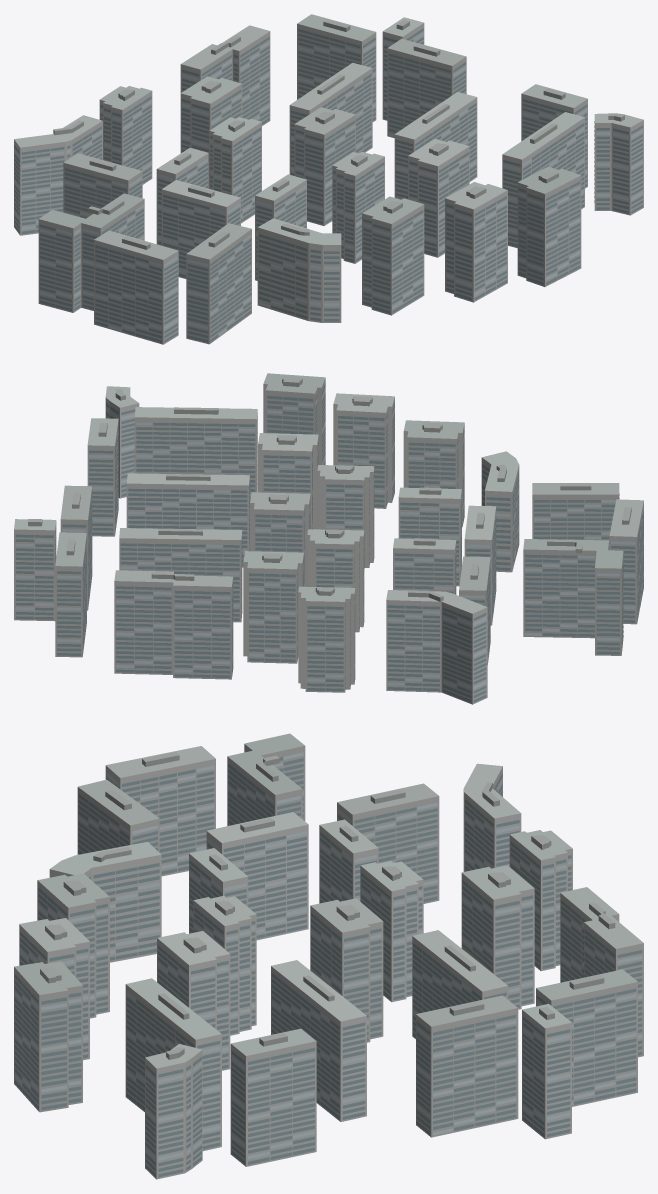
Rendered from apt-a15703204.glb.
3 renders of one model, top to bottom at view 1: azimuth 30°, elevation 25°; view 2: azimuth 150°, elevation 25°; view 3: azimuth 270°, elevation 25°, orthographic. The views are drawn at different scales.
Visible parts, largest first — view 1: apt-a15703204; view 2: apt-a15703204; view 3: apt-a15703204.
Part boxes in pixels (x1,y1,x2,y2): apt-a15703204: (14, 14, 643, 344); apt-a15703204: (14, 373, 643, 704); apt-a15703204: (14, 733, 643, 1179).
Size of the model in its own units: 339 by 57 by 266.
